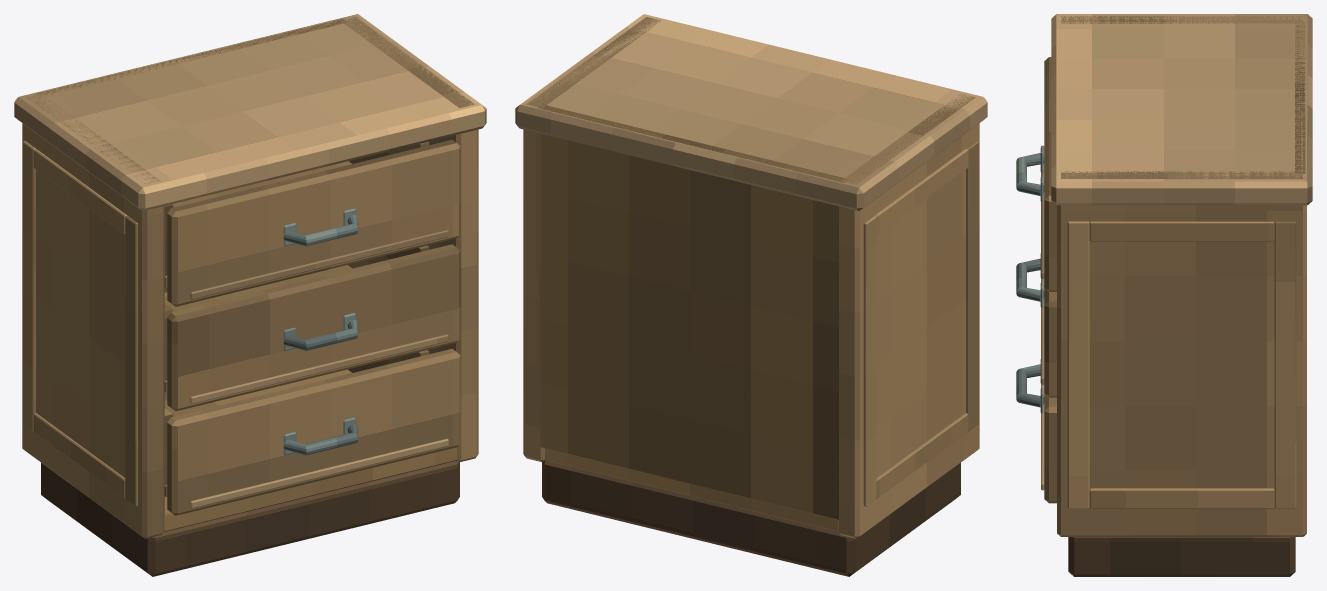
Rendered from dresser-wood.glb.
3 renders of one model, left to right at view 1: azimuth 30°, elevation 25°; view 2: azimuth 150°, elevation 25°; view 3: azimuth 270°, elevation 25°, orthographic.
Parts seen in each view (by area): view 1: dresser-wood/top, dresser-wood/side--0.32075, dresser-wood/drawer-front-1, dresser-wood/drawer-front-2, dresser-wood/drawer-front-0, dresser-wood/plinth, dresser-wood/side-0.32075, dresser-wood/bottom, dresser-wood/detail2-side-stile--1--1, dresser-wood/detail2-side-stile--1-1, dresser-wood/detail-drawer-lower-rail-0, dresser-wood/detail-drawer-lower-rail-2 (+10 smaller); view 2: dresser-wood/back, dresser-wood/top, dresser-wood/side--0.32075, dresser-wood/plinth, dresser-wood/side-0.32075, dresser-wood/detail2-side-stile--1-1, dresser-wood/bottom, dresser-wood/detail2-side-stile--1--1, dresser-wood/detail2-side-rail--1-1, dresser-wood/detail2-side-rail--1-0; view 3: dresser-wood/side-0.32075, dresser-wood/top, dresser-wood/plinth, dresser-wood/detail2-side-stile-1--1, dresser-wood/detail2-side-stile-1-1, dresser-wood/detail2-side-rail-1-0, dresser-wood/detail2-side-rail-1-1, dresser-wood/drawer-front-2, dresser-wood/side--0.32075, dresser-wood/back, dresser-wood/drawer-front-0, dresser-wood/drawer-front-1 (+4 smaller).
Boxes of the visible parts, x1,y1,x2,y2 form: dresser-wood/top: [14, 14, 486, 210]; dresser-wood/side--0.32075: [22, 93, 164, 538]; dresser-wood/drawer-front-1: [167, 244, 460, 411]; dresser-wood/drawer-front-2: [167, 139, 460, 306]; dresser-wood/drawer-front-0: [167, 348, 460, 515]; dresser-wood/plinth: [41, 460, 459, 576]; dresser-wood/side-0.32075: [340, 17, 478, 462]; dresser-wood/bottom: [164, 447, 456, 531]; dresser-wood/detail2-side-stile--1--1: [125, 215, 138, 506]; dresser-wood/detail2-side-stile--1-1: [23, 140, 35, 431]; dresser-wood/detail-drawer-lower-rail-0: [190, 438, 448, 508]; dresser-wood/detail-drawer-lower-rail-2: [190, 229, 448, 299]; dresser-wood/back: [536, 104, 848, 519]; dresser-wood/top: [515, 14, 987, 210]; dresser-wood/side--0.32075: [837, 94, 979, 538]; dresser-wood/plinth: [542, 460, 960, 576]; dresser-wood/side-0.32075: [523, 17, 661, 462]; dresser-wood/detail2-side-stile--1-1: [863, 215, 876, 506]; dresser-wood/bottom: [545, 449, 837, 531]; dresser-wood/detail2-side-stile--1--1: [966, 140, 978, 431]; dresser-wood/detail2-side-rail--1-1: [875, 148, 968, 234]; dresser-wood/detail2-side-rail--1-0: [876, 413, 968, 498]; dresser-wood/side-0.32075: [1057, 171, 1306, 536]; dresser-wood/top: [1051, 14, 1312, 205]; dresser-wood/plinth: [1068, 537, 1295, 576]; dresser-wood/detail2-side-stile-1--1: [1067, 221, 1089, 508]; dresser-wood/detail2-side-stile-1-1: [1274, 221, 1296, 508]; dresser-wood/detail2-side-rail-1-0: [1089, 488, 1274, 508]; dresser-wood/detail2-side-rail-1-1: [1089, 221, 1274, 241]; dresser-wood/drawer-front-2: [1044, 57, 1056, 291]; dresser-wood/side--0.32075: [1061, 16, 1302, 23]; dresser-wood/back: [1295, 22, 1305, 173]; dresser-wood/drawer-front-0: [1044, 394, 1056, 503]; dresser-wood/drawer-front-1: [1044, 288, 1056, 397].
Size of the model in its own units: 0.7115 by 0.7812 by 0.5191.
Materials: 5 (5 with a texture image).
